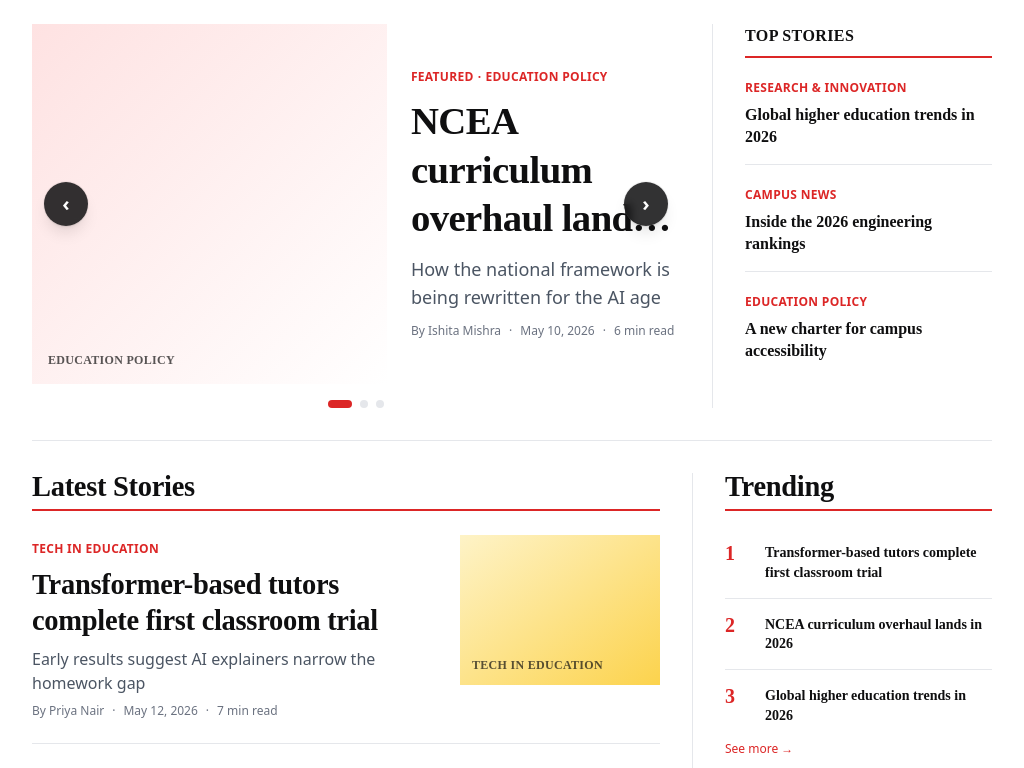
Test: <HomePage> › advances to the next slide when the Next button is clicked
This screenshot has width=1024, height=768.
expect the heading "NCEA curriculum overhaul lands in 2026" is shown: met, box x1=411 y1=97 x2=676 y2=243
Click the button named "next featured story": [646, 204] box x1=624 y1=182 x2=668 y2=226
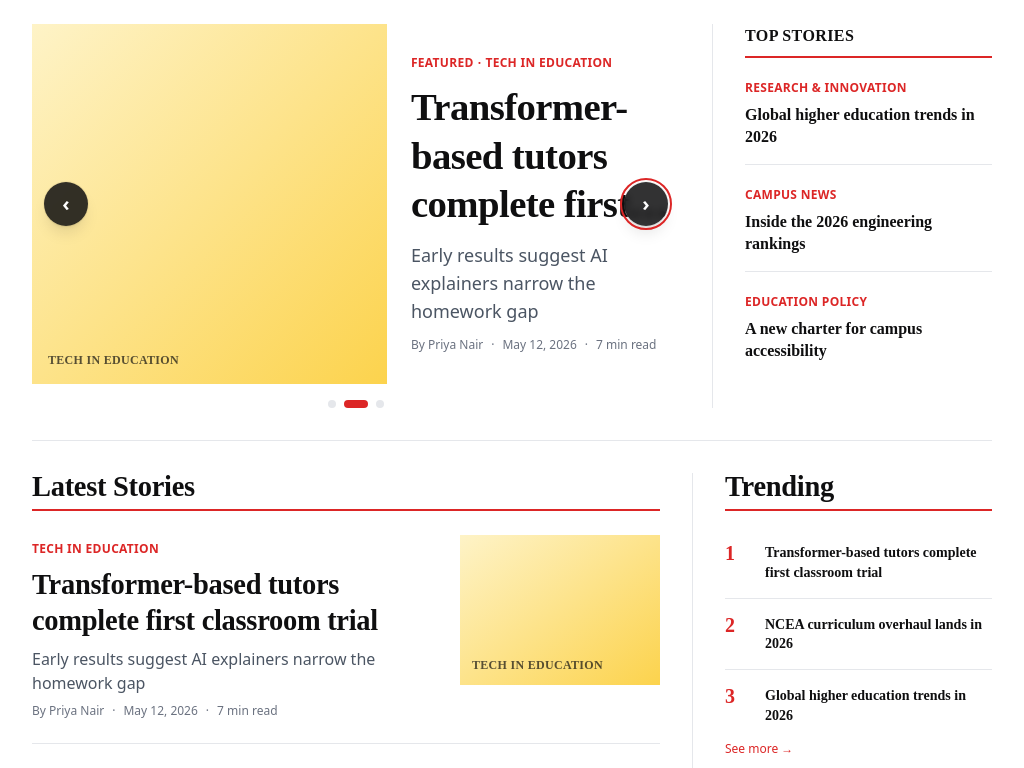
expect the heading "Transformer-based tutors complete first classroom trial" below "Featured" is shown: met, box x1=411 y1=83 x2=676 y2=229
